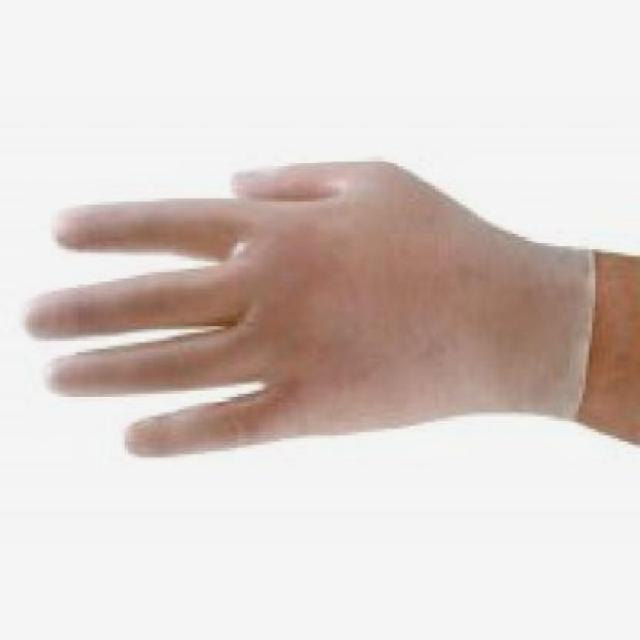glove: (25, 148, 598, 458)
